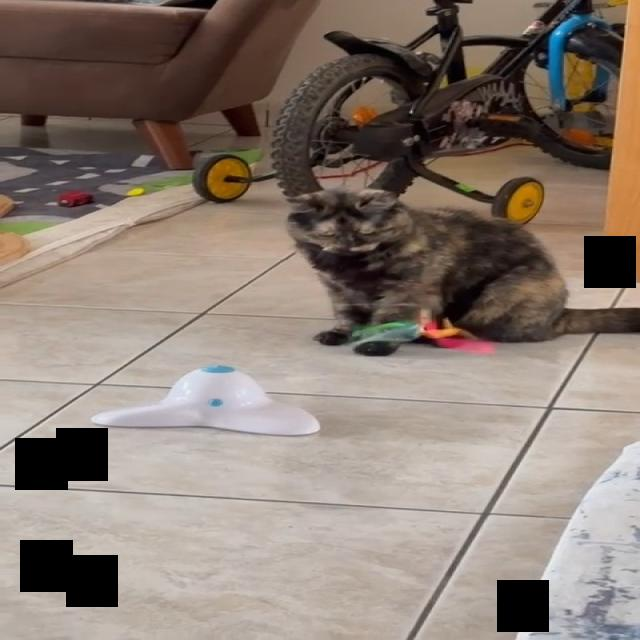authorized: (282, 186, 638, 346)
